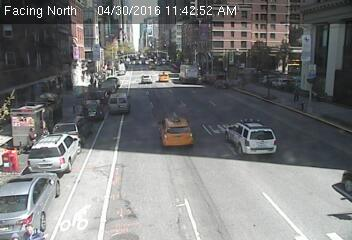neg: (151, 107, 191, 160), (224, 113, 262, 164), (215, 36, 248, 80), (325, 164, 351, 198), (171, 61, 196, 94), (15, 158, 39, 190), (31, 53, 54, 83), (286, 180, 308, 208), (149, 70, 169, 97), (57, 200, 77, 227), (68, 37, 87, 63), (239, 179, 258, 205), (104, 158, 123, 183), (298, 63, 316, 87), (117, 77, 128, 92)
pos: (25, 126, 41, 148), (292, 88, 304, 103)
